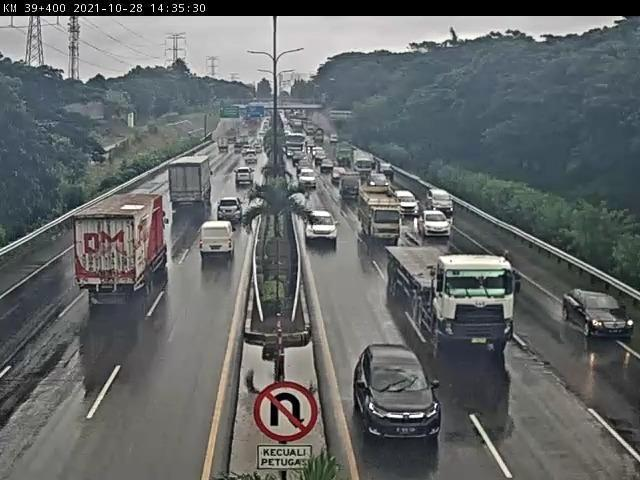car: (358, 345, 445, 439), (564, 289, 634, 345), (200, 222, 234, 257), (306, 212, 337, 243), (421, 212, 450, 240), (428, 188, 454, 215), (339, 174, 363, 198), (216, 200, 242, 220), (400, 193, 420, 218), (236, 169, 255, 187), (301, 168, 318, 187), (381, 164, 394, 179), (371, 175, 385, 188), (292, 152, 307, 164), (246, 151, 258, 164), (320, 159, 332, 171), (336, 165, 347, 178), (315, 150, 327, 161)
truck: (387, 247, 520, 345), (73, 192, 170, 299), (358, 188, 401, 243), (169, 157, 214, 205), (353, 152, 374, 176), (289, 132, 306, 155), (338, 140, 353, 164), (219, 138, 228, 152)
